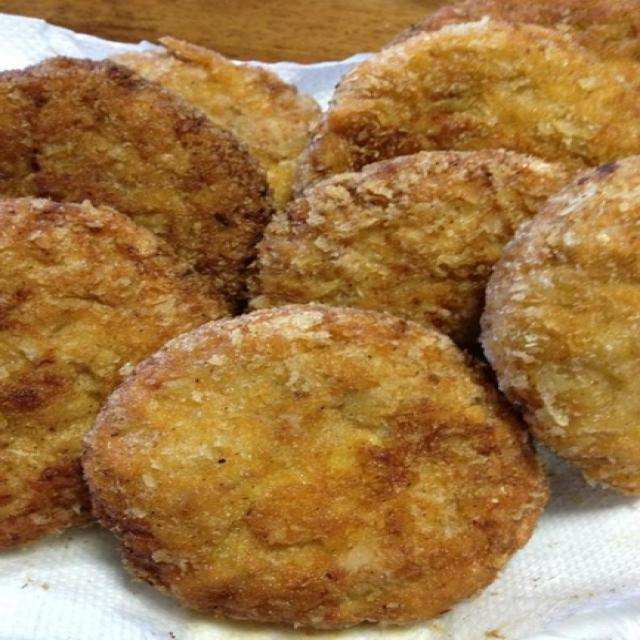炸货点心: (8, 10, 632, 623)
